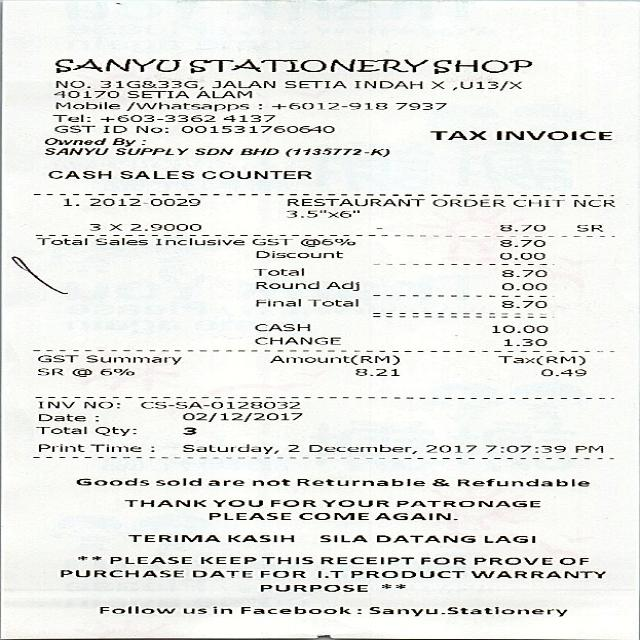text: (52, 58, 531, 73), (368, 606, 565, 616), (139, 399, 300, 410), (123, 101, 247, 111), (285, 198, 421, 207), (82, 196, 200, 206), (267, 355, 398, 364), (495, 130, 610, 140), (181, 412, 301, 421), (307, 444, 415, 454), (470, 570, 604, 578), (180, 125, 333, 132), (455, 478, 588, 486), (348, 569, 462, 578), (296, 478, 423, 486), (396, 500, 538, 507), (58, 569, 182, 577), (200, 170, 310, 179), (495, 354, 584, 365), (85, 354, 180, 364), (182, 444, 276, 454), (98, 114, 214, 122), (99, 80, 202, 89), (253, 336, 341, 346), (259, 584, 366, 592), (238, 606, 359, 613), (285, 148, 387, 156), (270, 102, 385, 109), (126, 534, 219, 542), (319, 556, 412, 564), (153, 237, 243, 245), (374, 535, 474, 542), (374, 512, 455, 520), (484, 444, 564, 452), (450, 81, 520, 90), (472, 556, 550, 564), (96, 606, 174, 614), (430, 198, 506, 206), (255, 250, 341, 257), (118, 170, 192, 178), (284, 209, 358, 217), (128, 222, 200, 230), (75, 477, 147, 485), (123, 499, 205, 506), (108, 556, 190, 563), (115, 147, 186, 155), (208, 512, 288, 519), (351, 80, 420, 88), (494, 282, 549, 292), (320, 499, 388, 507), (488, 325, 548, 334), (499, 337, 548, 348), (537, 367, 585, 378), (226, 534, 292, 542), (427, 130, 485, 139), (496, 268, 548, 278), (88, 444, 152, 452), (55, 101, 118, 109), (296, 512, 367, 519), (211, 80, 273, 88), (125, 90, 187, 98), (47, 170, 109, 178), (255, 280, 317, 288), (283, 80, 344, 88), (38, 413, 97, 421), (495, 238, 547, 247), (495, 251, 546, 260), (496, 299, 547, 308), (53, 90, 117, 97), (194, 90, 250, 98), (43, 147, 107, 154), (252, 323, 308, 331), (190, 570, 251, 577), (93, 237, 146, 245), (300, 238, 353, 246), (423, 444, 475, 452), (201, 556, 253, 564), (495, 224, 546, 232), (251, 268, 302, 276), (306, 298, 357, 306), (33, 426, 84, 434), (512, 198, 562, 206), (35, 237, 85, 245), (323, 280, 358, 291), (318, 534, 366, 542), (263, 556, 311, 564), (92, 426, 134, 435), (183, 606, 230, 614), (393, 102, 445, 109), (254, 298, 299, 306), (36, 400, 76, 409), (154, 478, 199, 486), (419, 556, 464, 564), (223, 115, 273, 122), (571, 199, 614, 207), (212, 499, 261, 506), (484, 535, 533, 542), (36, 354, 77, 362), (36, 444, 82, 451), (353, 368, 398, 375), (269, 499, 314, 506), (259, 570, 304, 577), (54, 79, 88, 88), (193, 147, 231, 155), (238, 147, 276, 155), (250, 478, 288, 486), (80, 400, 113, 409), (51, 114, 88, 122), (52, 125, 94, 132), (250, 238, 290, 245), (573, 223, 603, 232), (100, 367, 132, 375), (134, 125, 167, 132), (205, 480, 242, 486), (70, 138, 105, 144), (36, 367, 62, 375), (110, 137, 133, 146), (42, 137, 71, 144), (573, 445, 601, 452), (559, 557, 586, 564), (316, 570, 341, 577), (102, 125, 125, 132), (58, 196, 73, 206), (71, 368, 89, 376), (285, 443, 298, 454), (431, 478, 448, 486), (75, 555, 100, 560), (107, 222, 120, 230), (429, 81, 443, 88), (380, 584, 404, 588), (181, 427, 194, 434), (88, 222, 99, 230), (258, 103, 260, 109)
